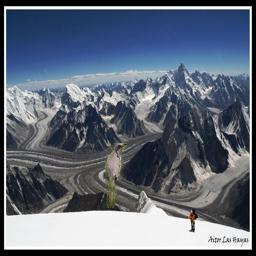Cuckoo: (105, 144, 127, 209)
